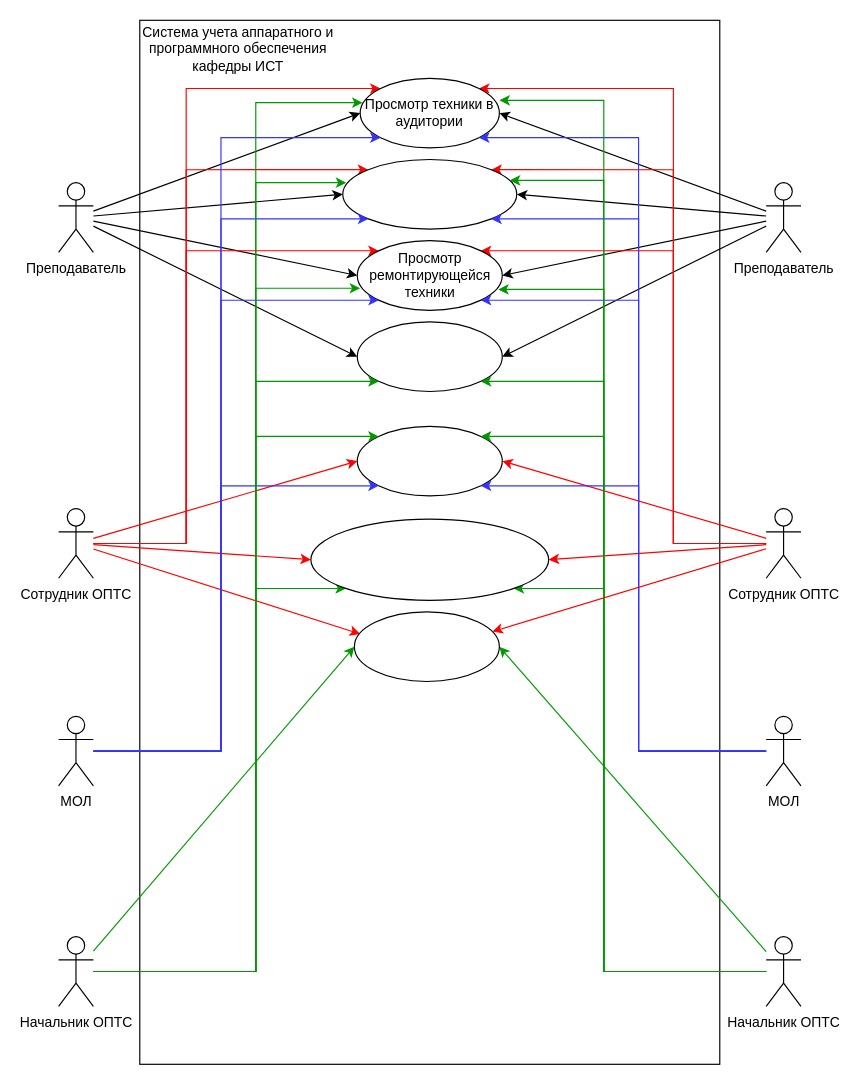
Image size: 860x1085. Some labels were removed from this diagram. Here are the shapes that lost their labels. From the top down, the centre of each, then its label:
At [429,193]: "Подбор аудиторий под определённые задачи".
At [429,356]: "Создание задания по сломанной технике".
At [429,460]: "Просмотр заданий по сломанной технике".
At [429,559]: "добавление/редактирование данных о конфигурации техники".
At [426,646]: "Списание техники".
